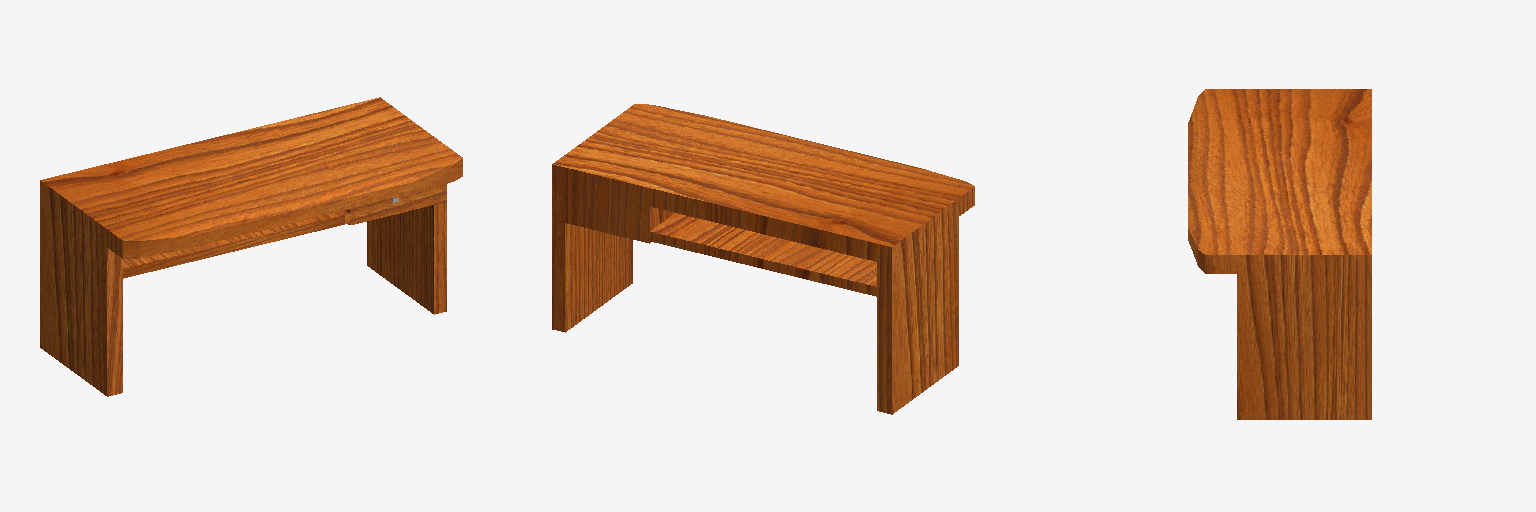
The picture shows the model from 3 angles: view 1: azimuth 30°, elevation 25°; view 2: azimuth 150°, elevation 25°; view 3: azimuth 270°, elevation 25°; orthographic projection.
Visible parts, largest first — view 1: birou; view 2: birou; view 3: birou.
Part boxes in pixels (x1,y1,x2,y2): birou: (40, 97, 462, 396); birou: (552, 104, 974, 414); birou: (1188, 89, 1371, 419).
Size of the model in its own units: 6.16 by 2.9 by 2.87.
Materials: 1 (1 with a texture image).